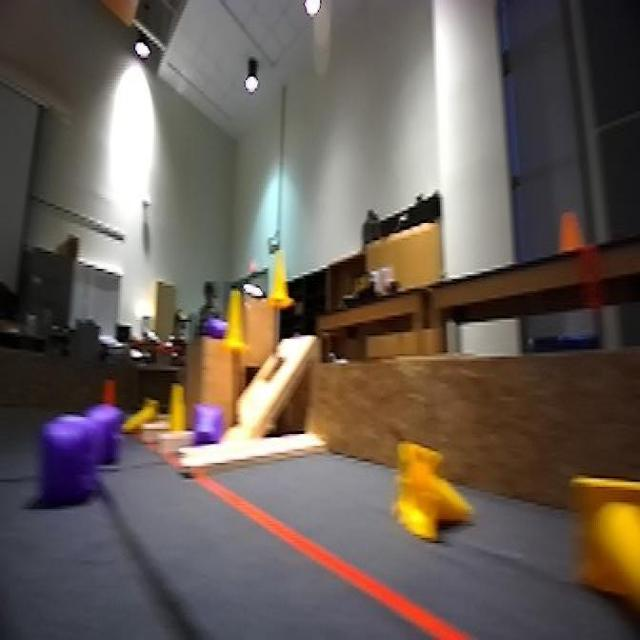frc_cone: (568, 470, 640, 640), (393, 436, 478, 548), (224, 291, 253, 356), (120, 400, 167, 434), (269, 249, 294, 308), (168, 383, 186, 434)
frc_cube: (42, 412, 101, 507), (84, 414, 124, 461), (190, 400, 228, 446), (206, 312, 230, 347)
